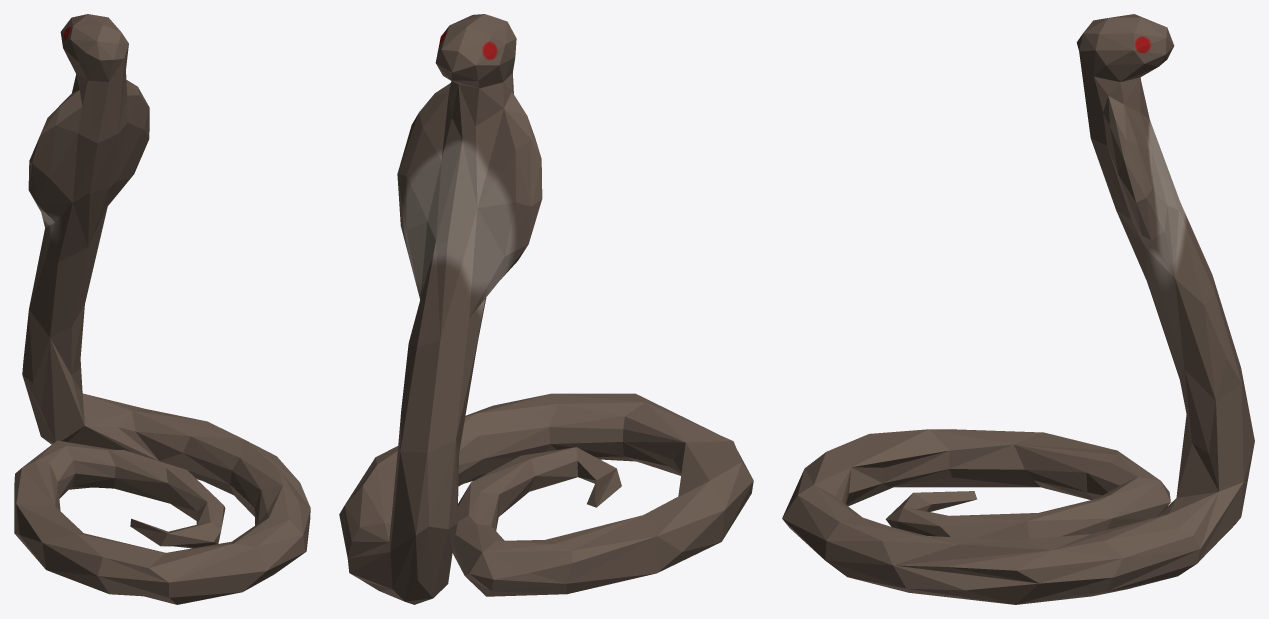
File: animal_cobra_blob.obj
3 renders of one model, left to right at view 1: azimuth 30°, elevation 25°; view 2: azimuth 150°, elevation 25°; view 3: azimuth 270°, elevation 25°, orthographic. The views are drawn at different scales.
Visible parts, largest first — view 1: animal_cobra_blob; view 2: animal_cobra_blob; view 3: animal_cobra_blob.
Part boxes in pixels (box(x1,y1,x2,y2)): animal_cobra_blob: box(14, 14, 310, 604); animal_cobra_blob: box(339, 14, 753, 604); animal_cobra_blob: box(782, 14, 1254, 604).
Bounding box in the file's own units: 0.4882 × 0.8361 × 0.6841.
